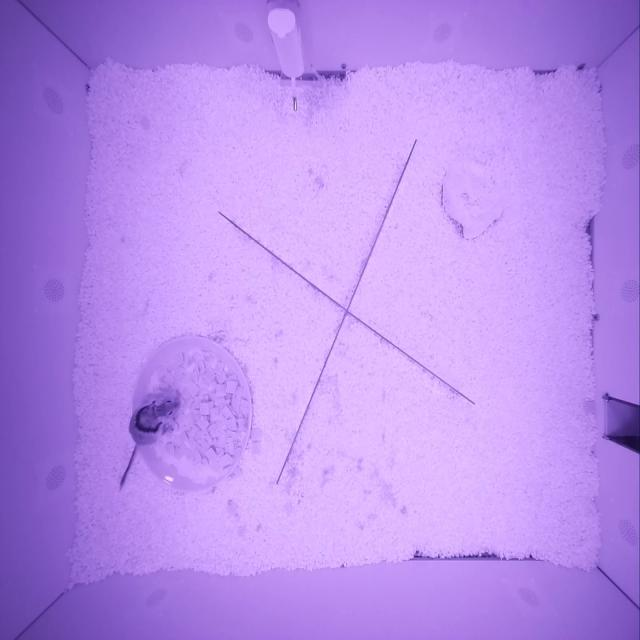adult_front: (127, 397, 181, 446)
